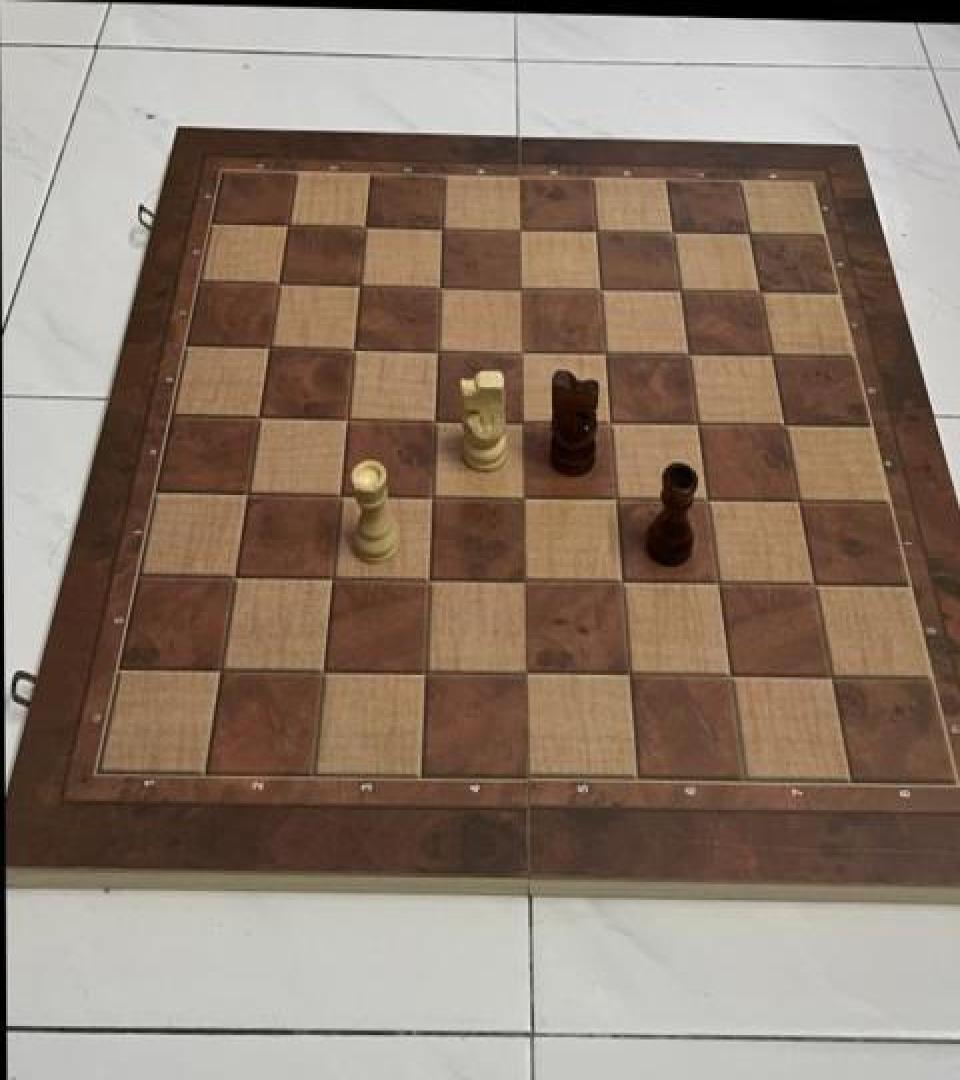xcorner: (577, 210, 613, 251), (501, 209, 537, 250), (424, 208, 460, 249), (741, 271, 777, 312), (342, 264, 378, 305), (262, 263, 298, 304), (753, 335, 789, 376), (670, 334, 706, 375), (252, 326, 288, 367), (416, 398, 452, 439), (329, 397, 365, 438), (688, 479, 724, 520), (597, 478, 633, 519), (230, 471, 266, 512), (506, 560, 542, 601), (410, 559, 446, 600), (812, 659, 848, 700), (305, 650, 341, 691), (731, 213, 767, 253), (654, 212, 690, 252), (348, 206, 384, 246), (271, 205, 307, 245), (661, 270, 697, 310), (582, 269, 618, 309), (502, 268, 538, 308), (422, 266, 458, 306), (586, 332, 622, 372), (503, 331, 539, 371), (419, 330, 455, 370), (336, 329, 372, 369), (766, 405, 802, 445), (678, 404, 714, 444), (591, 402, 627, 442), (504, 401, 540, 441), (242, 396, 278, 436), (780, 482, 816, 522), (505, 477, 541, 517), (413, 475, 449, 515), (322, 474, 358, 514), (795, 566, 831, 606), (699, 564, 735, 604), (603, 563, 639, 603), (314, 557, 350, 597), (217, 556, 253, 596), (711, 657, 747, 697), (609, 656, 645, 696), (508, 654, 544, 694), (406, 653, 442, 693), (203, 648, 239, 688)
